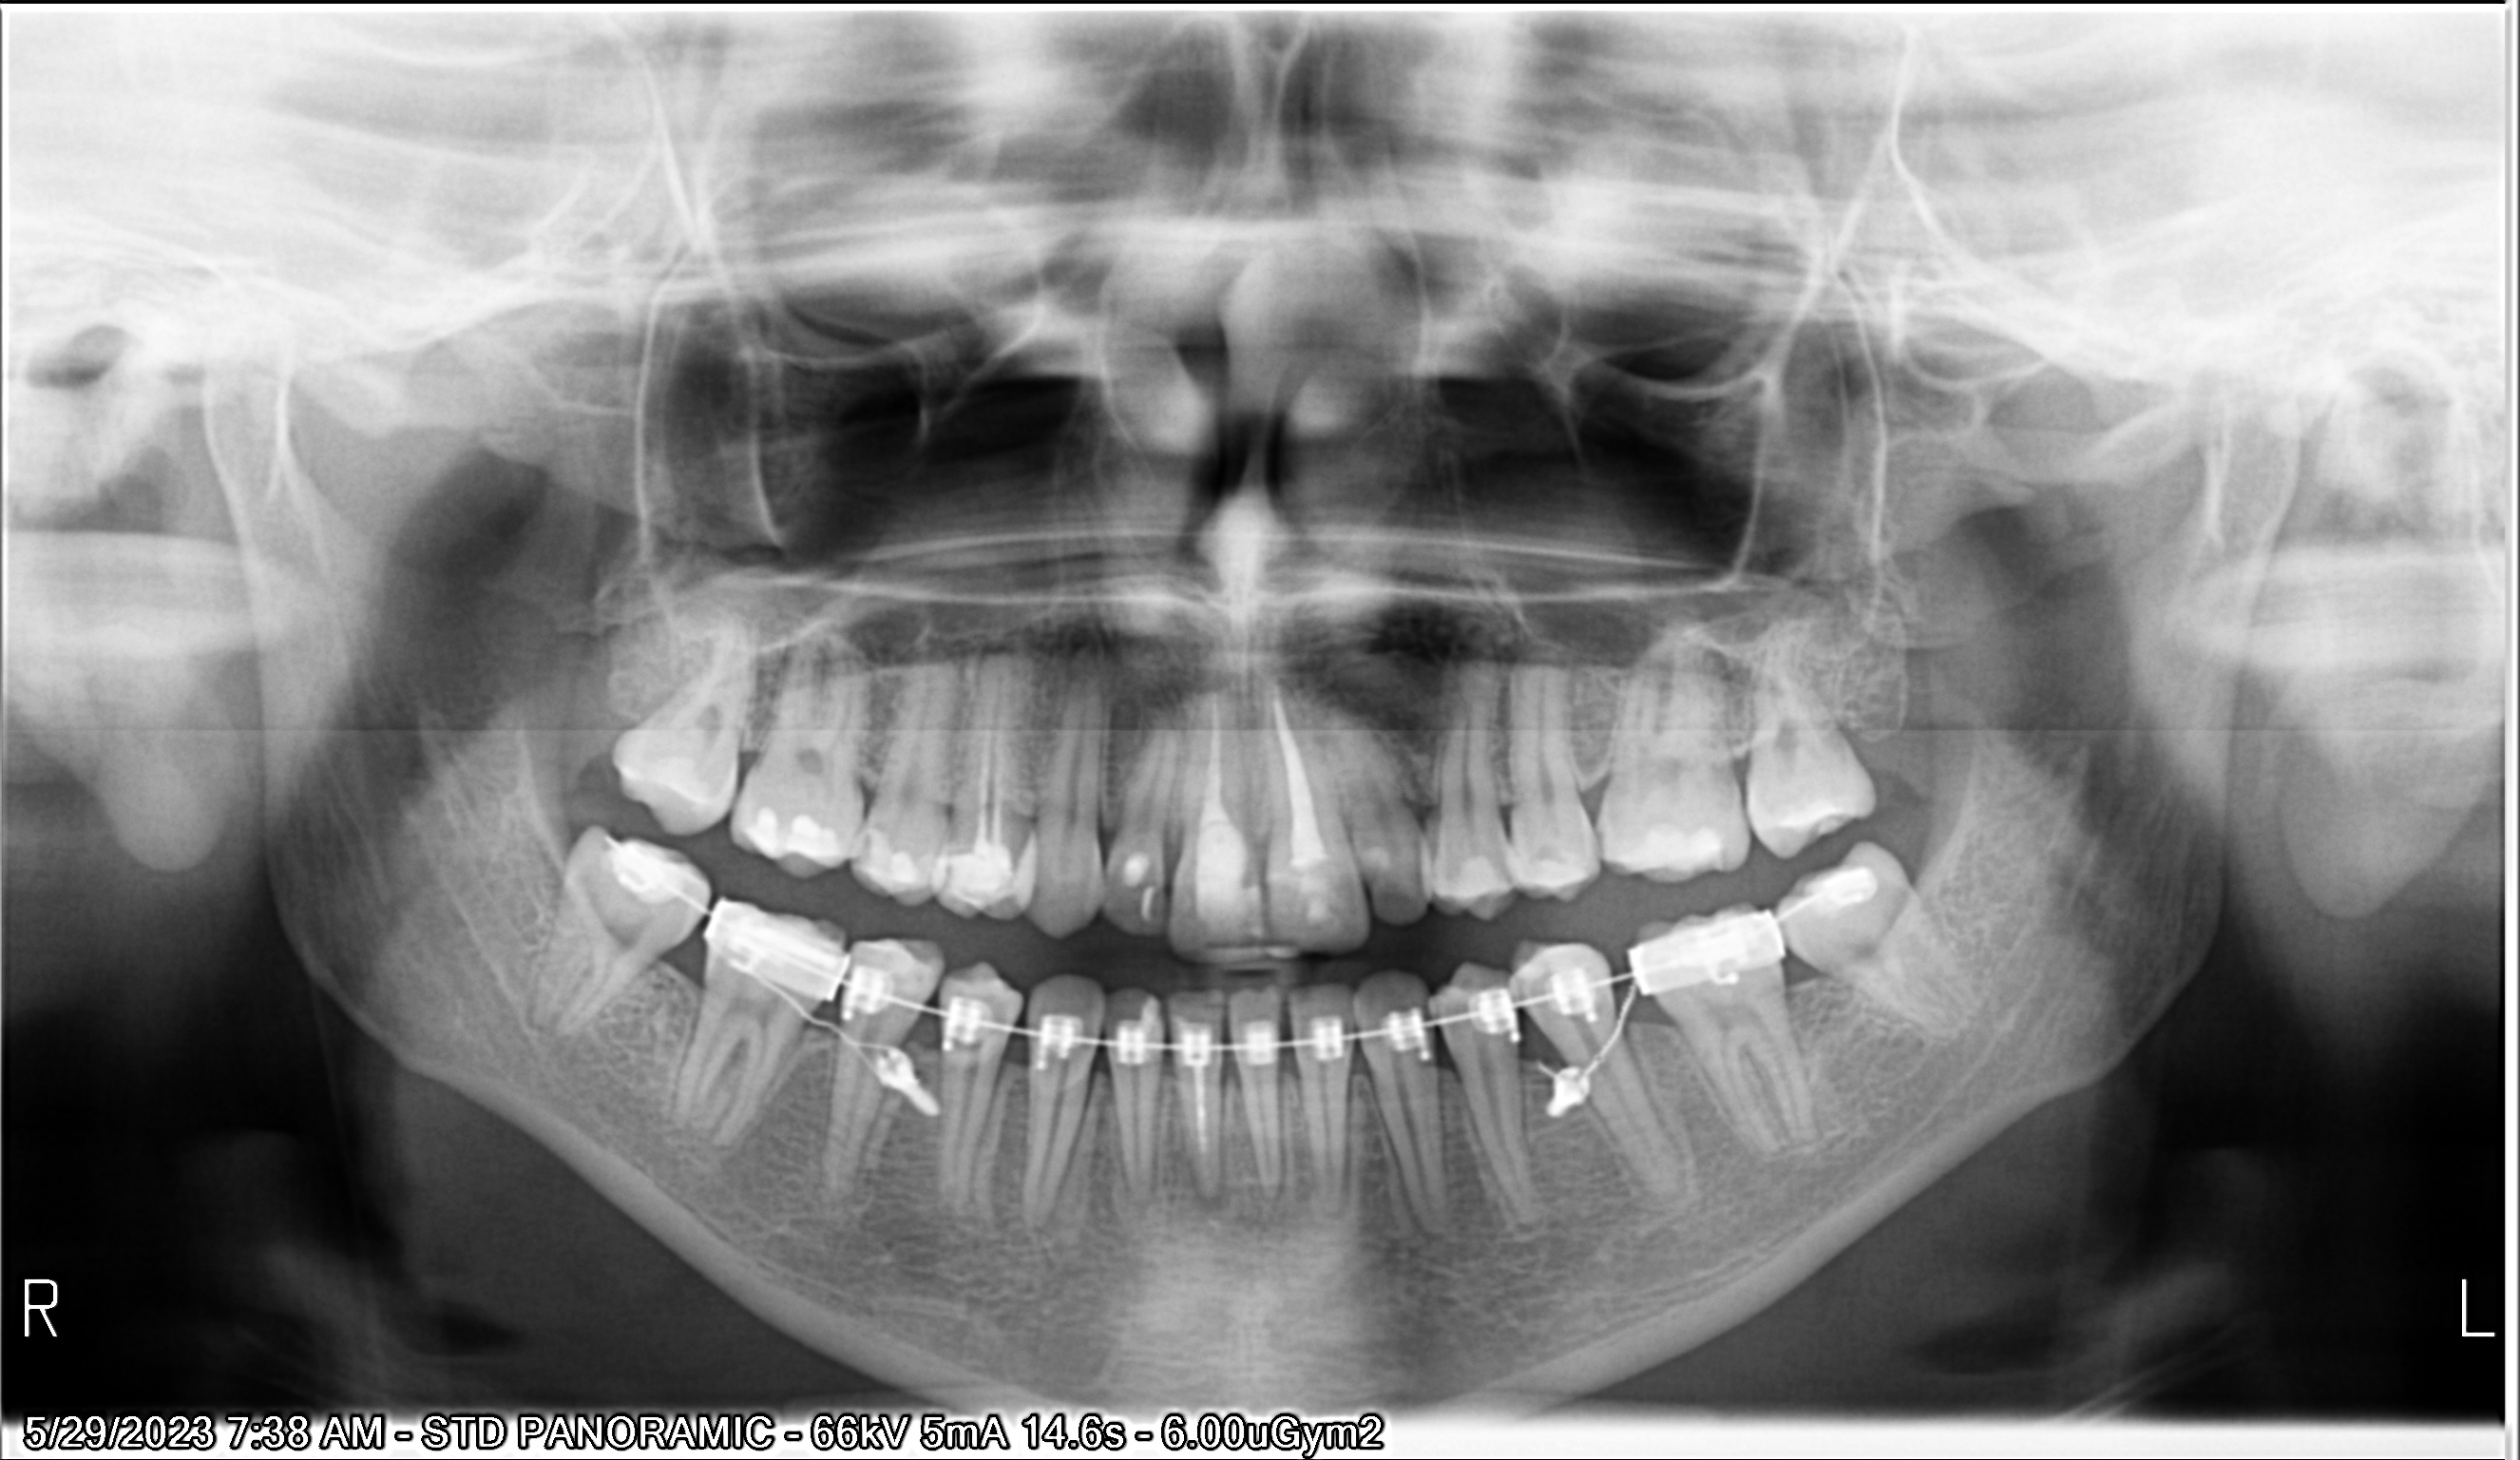API: (966, 615, 1033, 690)
CAR: (1367, 885, 1422, 925), (1525, 843, 1563, 867), (1141, 890, 1160, 933), (1600, 826, 1615, 853)
END: (1268, 685, 1329, 873), (974, 688, 1011, 819), (1198, 702, 1231, 833), (966, 685, 992, 829)
OBT: (1634, 822, 1730, 881), (952, 846, 1009, 923), (1195, 841, 1245, 923), (788, 815, 848, 881), (1443, 848, 1501, 904), (872, 841, 919, 904), (1299, 888, 1342, 947), (747, 801, 782, 859), (1534, 873, 1586, 902), (1120, 853, 1150, 883), (1370, 839, 1388, 873)
ORD: (601, 817, 1924, 1123)
